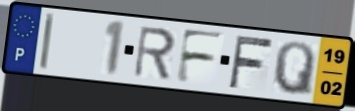1: (101, 19, 127, 78)
F: (173, 27, 227, 86), (227, 34, 276, 91)
I: (37, 12, 57, 72)
Q: (271, 40, 317, 99)
R: (132, 25, 178, 82)
